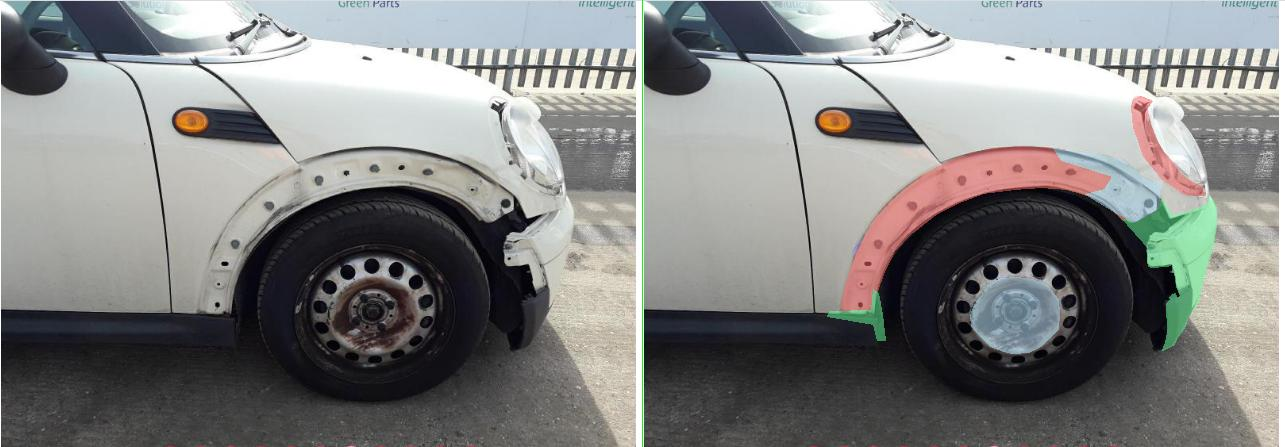Broken part: (961, 195, 1147, 350), (368, 289, 484, 340)
Corrosion: (821, 148, 1035, 222), (655, 277, 833, 353)
Missing part: (394, 146, 1029, 314), (977, 96, 1123, 195)
Scratch: (484, 202, 600, 252), (418, 241, 438, 255)
